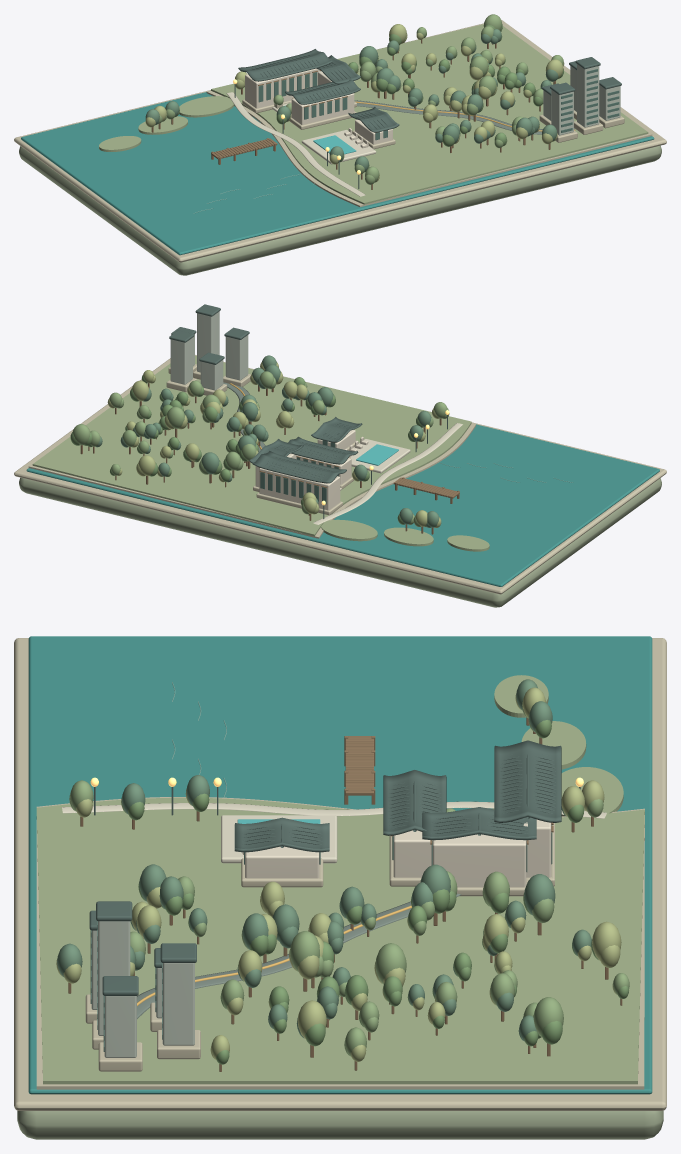
Rendered from suzhou-route.glb.
3 renders of one model, top to bottom at view 1: azimuth 30°, elevation 25°; view 2: azimuth 150°, elevation 25°; view 3: azimuth 270°, elevation 25°, orthographic. The views are drawn at different scales.
Parts seen in each view (by area): view 1: Lake surface, Garden landmass, Floating landscape plinth, Stone border, Organic shoreline bank, Resort north wing swept roof, City tower 1, Resort north wing main walls, Resort south wing swept roof, Lakeside promenade, Resort south wing main walls, Low wooded island 2 (+10 smaller); view 2: Lake surface, Garden landmass, Floating landscape plinth, Stone border, Organic shoreline bank, Resort north wing swept roof, Resort north wing main walls, City tower 1, Lakeside promenade, City tower 0, City tower 4, Resort south wing swept roof (+8 smaller); view 3: Garden landmass, Lake surface, Stone border, Floating landscape plinth, Organic shoreline bank, Resort north wing swept roof, Resort east wing main walls, Resort south wing swept roof, City tower 4, Resort east wing swept roof, Garden pavilion swept roof, Lakeside promenade (+20 smaller).
Boxes of the visible parts, <box> form: Lake surface: <box>21,92,654,255</box>; Garden landmass: <box>211,24,648,204</box>; Floating landscape plinth: <box>19,145,661,275</box>; Stone border: <box>14,19,666,262</box>; Organic shoreline bank: <box>206,25,652,206</box>; Resort north wing swept roof: <box>238,49,332,81</box>; City tower 1: <box>577,64,599,127</box>; Resort north wing main walls: <box>245,68,319,108</box>; Resort south wing swept roof: <box>285,79,360,104</box>; Lakeside promenade: <box>226,92,365,196</box>; Resort south wing main walls: <box>291,93,354,124</box>; Low wooded island 2: <box>179,96,234,117</box>; Lake surface: <box>26,424,659,586</box>; Garden landmass: <box>32,355,471,536</box>; Floating landscape plinth: <box>19,477,661,607</box>; Stone border: <box>14,355,666,594</box>; Organic shoreline bank: <box>28,363,475,538</box>; Resort north wing swept roof: <box>252,451,346,483</box>; Resort north wing main walls: <box>259,468,340,510</box>; City tower 1: <box>197,311,219,372</box>; Lakeside promenade: <box>313,423,462,524</box>; City tower 0: <box>225,335,248,380</box>; City tower 4: <box>170,337,192,384</box>; Resort south wing swept roof: <box>287,436,358,464</box>; Garden landmass: <box>36,797,644,1084</box>; Lake surface: <box>28,636,652,1094</box>; Stone border: <box>14,638,666,1110</box>; Floating landscape plinth: <box>17,1110,663,1139</box>; Organic shoreline bank: <box>36,797,644,1089</box>; Resort north wing swept roof: <box>494,740,561,822</box>; Resort east wing main walls: <box>432,834,526,887</box>; Resort south wing swept roof: <box>383,770,446,835</box>; City tower 4: <box>162,963,194,1045</box>; Resort east wing swept roof: <box>422,807,536,840</box>; Garden pavilion swept roof: <box>234,817,329,852</box>; Lakeside promenade: <box>62,801,606,818</box>.
Bounding box in the file's own units: 17.1 × 3.19 × 10.1.
